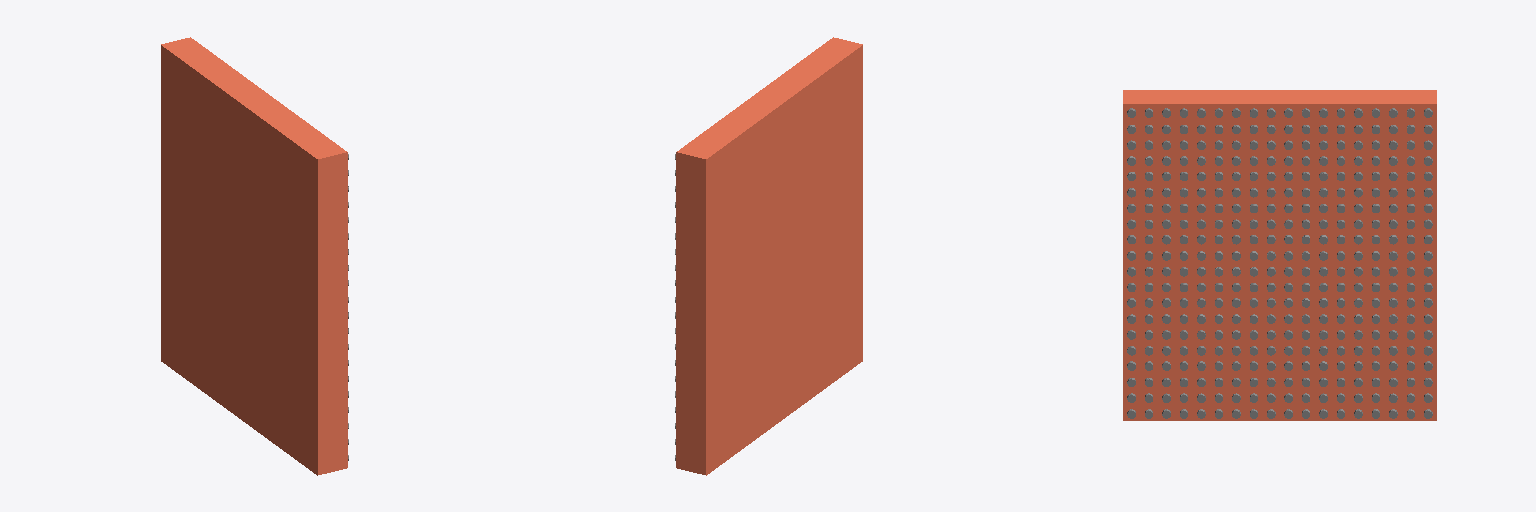
The picture shows the model from 3 angles: view 1: azimuth 30°, elevation 25°; view 2: azimuth 150°, elevation 25°; view 3: azimuth 270°, elevation 25°; orthographic projection.
Parts seen in each view (by area): view 1: Puerta_Cochera; view 2: Puerta_Cochera; view 3: Puerta_Cochera, Textura_Cochera.
Boxes of the visible parts, x1=… form: Puerta_Cochera: x1=161, y1=37, x2=347, y2=475; Puerta_Cochera: x1=676, y1=37, x2=862, y2=475; Puerta_Cochera: x1=1123, y1=90, x2=1436, y2=420; Textura_Cochera: x1=1127, y1=108, x2=1432, y2=418.
Size of the model in its own units: 2.25 by 20 by 18.
1 materials, 1 textured.